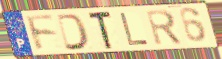6: (180, 6, 209, 47)
D: (55, 13, 91, 52)
F: (24, 14, 59, 53)
L: (118, 12, 151, 47)
R: (144, 9, 185, 48)
T: (87, 10, 114, 51)
